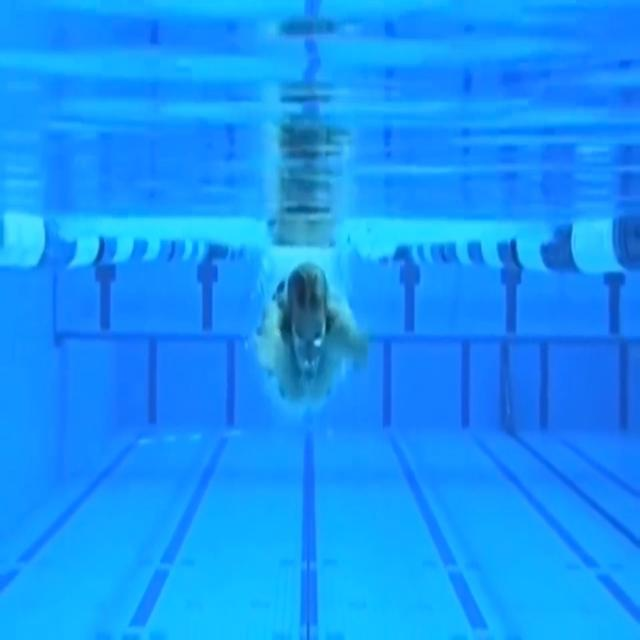Swimming: (253, 262, 367, 416)
